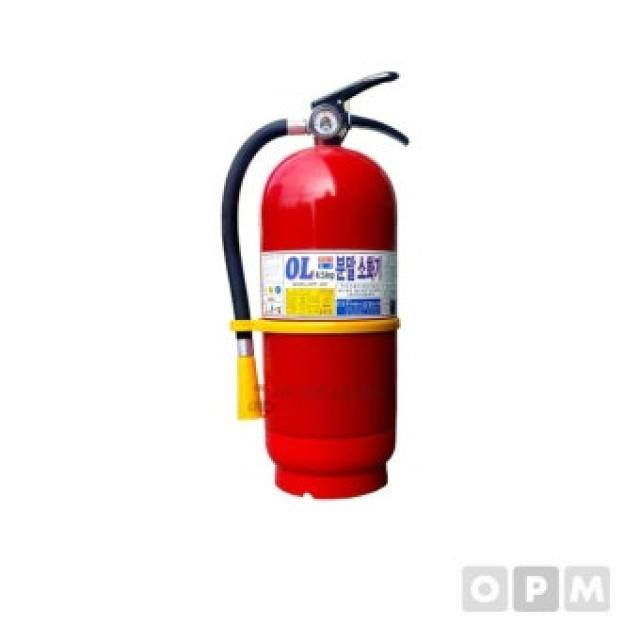pressure gauge: (309, 104, 344, 139)
